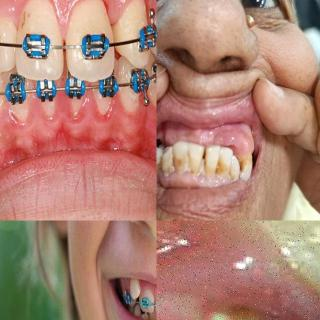Gum Swelling: (0, 92, 148, 137), (212, 127, 252, 149), (163, 172, 192, 184), (193, 175, 211, 187), (156, 170, 162, 182)
maligned: (126, 278, 142, 300), (140, 310, 149, 320)
plaque: (126, 86, 144, 114), (163, 160, 177, 182), (195, 155, 208, 177), (181, 158, 191, 175), (227, 168, 235, 184)
stains: (203, 152, 216, 179), (189, 156, 201, 180), (217, 158, 229, 178), (238, 156, 250, 176), (174, 152, 184, 172), (156, 153, 162, 175)
